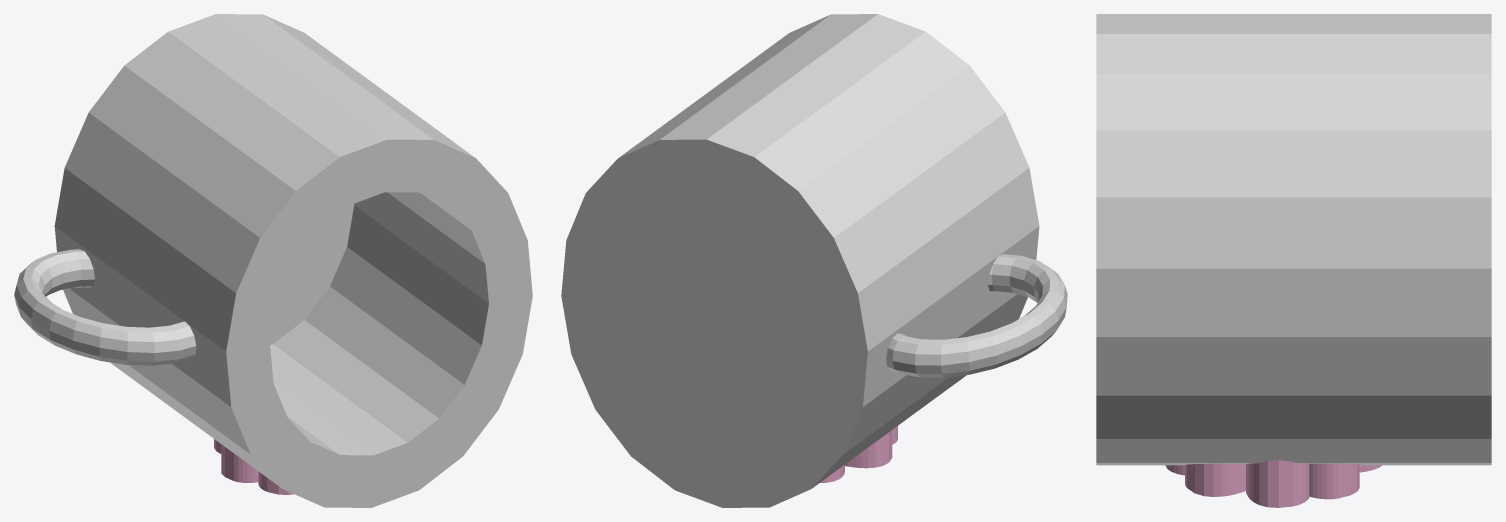
Rendered from tinker.obj.
3 views of the same model, side by side, from view 1: azimuth 30°, elevation 25°; view 2: azimuth 150°, elevation 25°; view 3: azimuth 270°, elevation 25° (orthographic). The views are drawn at different scales.
Visible parts, largest first — view 1: group_0_16448250, group_0_15708628; view 2: group_0_16448250, group_0_15708628; view 3: group_0_16448250, group_0_15708628.
Part boxes in pixels (x1,y1,x2,y2): group_0_16448250: [14, 14, 532, 507]; group_0_15708628: [214, 439, 293, 494]; group_0_16448250: [561, 14, 1067, 507]; group_0_15708628: [820, 426, 897, 482]; group_0_16448250: [1096, 14, 1491, 465]; group_0_15708628: [1165, 460, 1382, 507].
Bounding box in the file's own units: 56.03 × 50.06 × 41.
